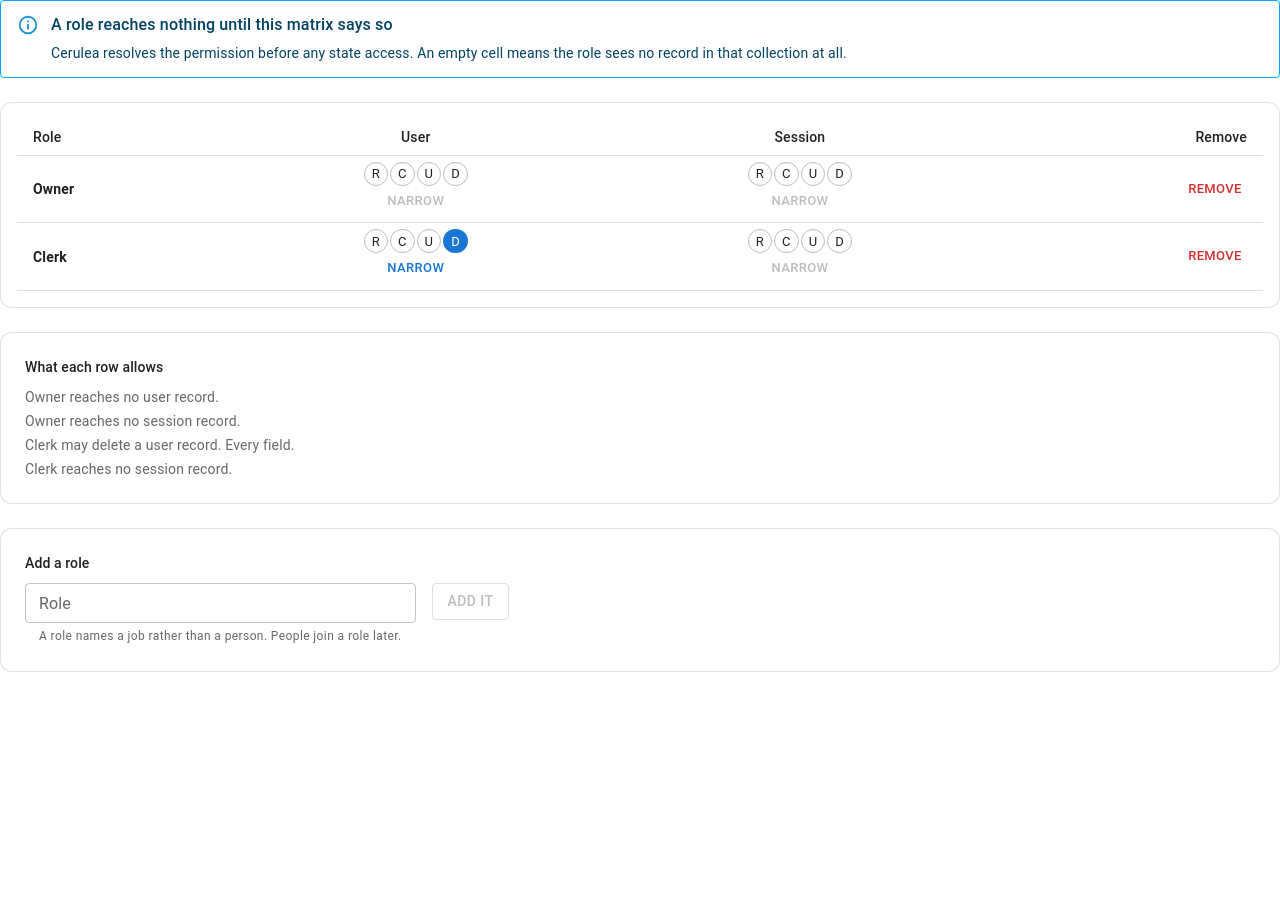
Test: the permission matrix cells › drops the whole entry when the last capability goes
The width and height of the screenshot is (1280, 900).
Click the button named "Delete for Clerk on User". click: x=455, y=241
box: [443,229,468,253]
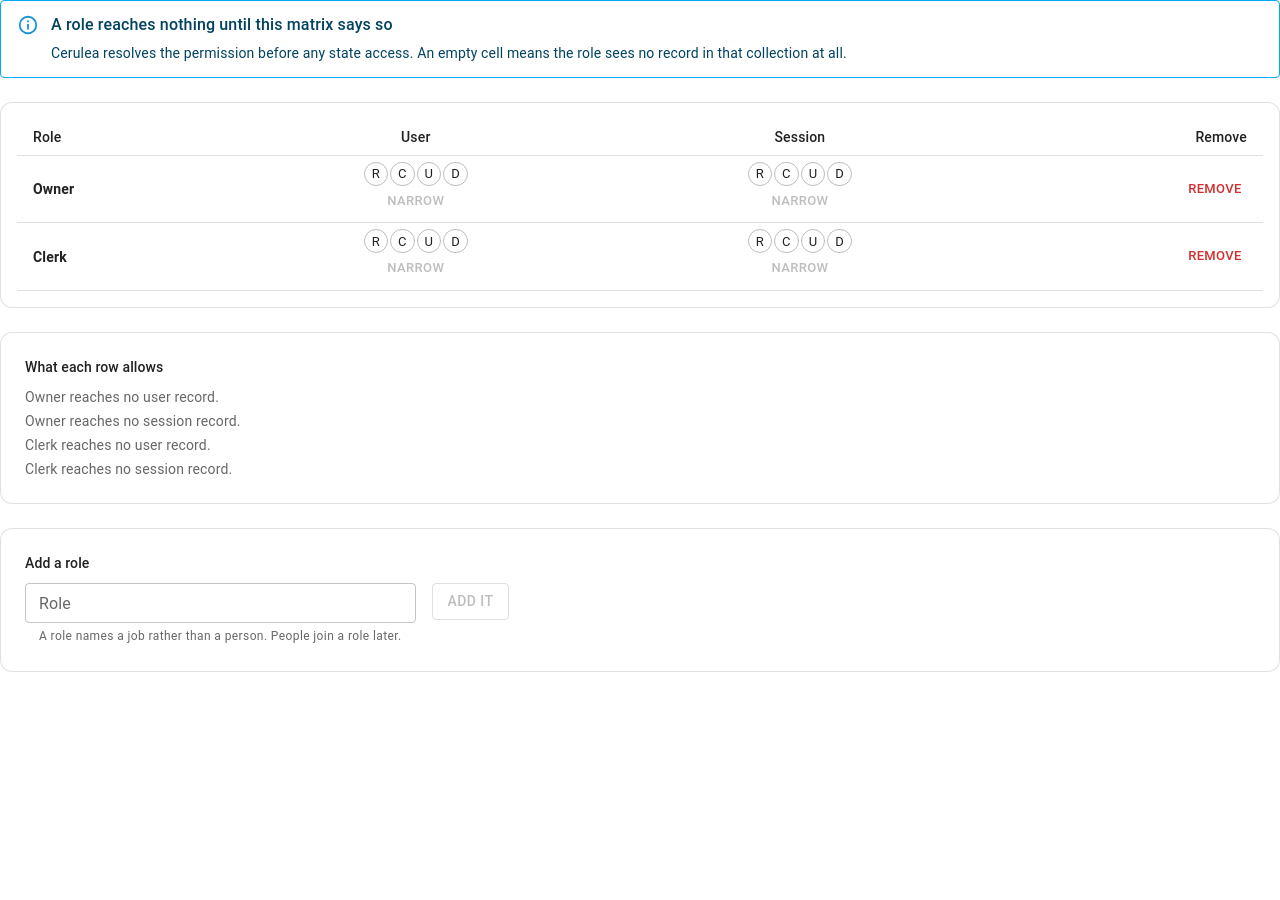
Now the text "Clerk reaches no user record." is shown, box [25,437,211,453]
